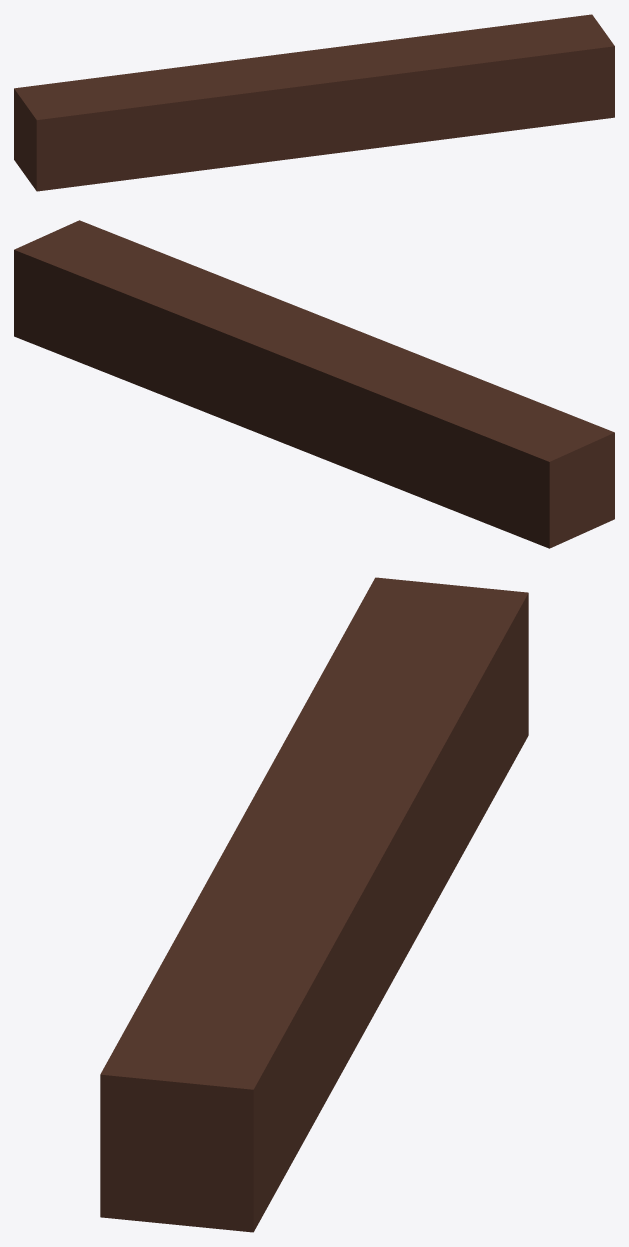
The model's file is cube.075_lev2.glb.
The picture shows the model from 3 angles, top to bottom: view 1: azimuth 30°, elevation 25°; view 2: azimuth 150°, elevation 25°; view 3: azimuth 270°, elevation 25°; orthographic projection. The views are drawn at different scales.
Parts seen in each view (by area): view 1: cube.075_lev2; view 2: cube.075_lev2; view 3: cube.075_lev2.
Part boxes in pixels (<box>): cube.075_lev2: <box>14,14,614,191</box>; cube.075_lev2: <box>14,220,614,548</box>; cube.075_lev2: <box>100,577,528,1232</box>.
Bounding box in the file's own units: 0.0784 × 0.0102 × 0.0277.
